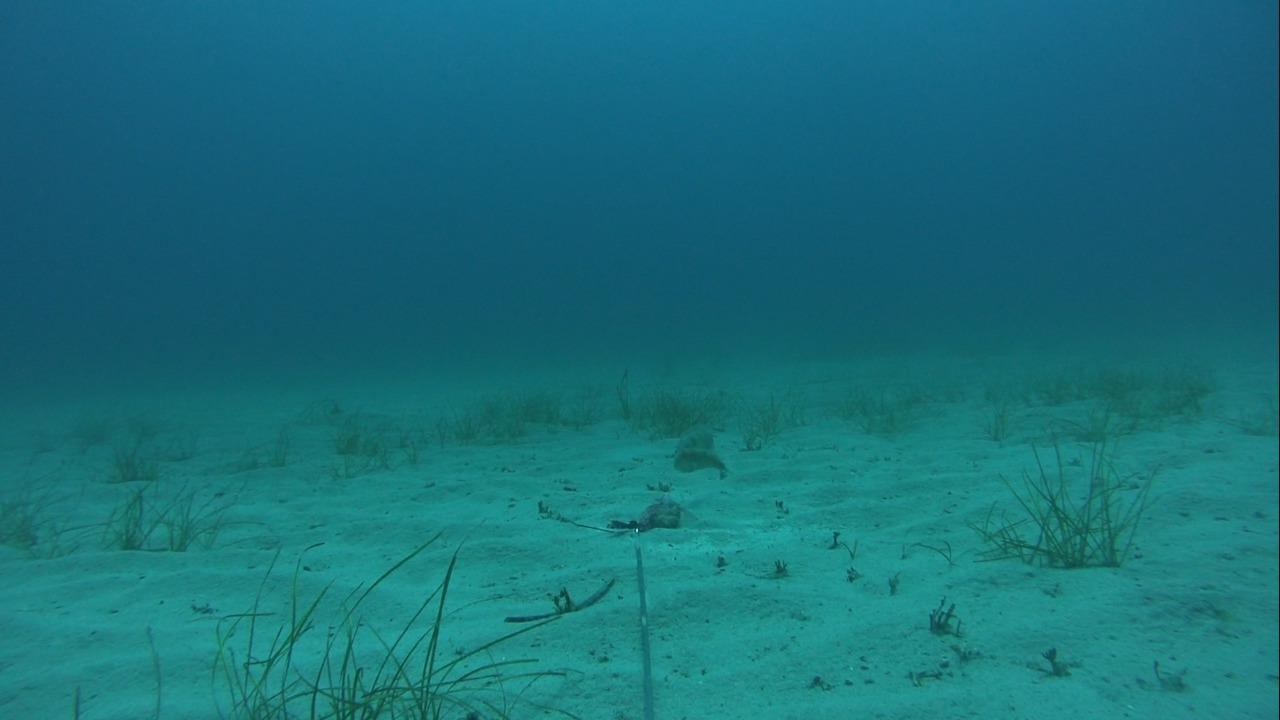raor: (662, 446, 736, 477), (665, 420, 720, 454)
